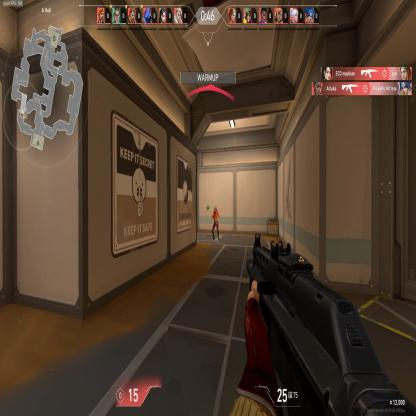enemy: (211, 204, 220, 242)
